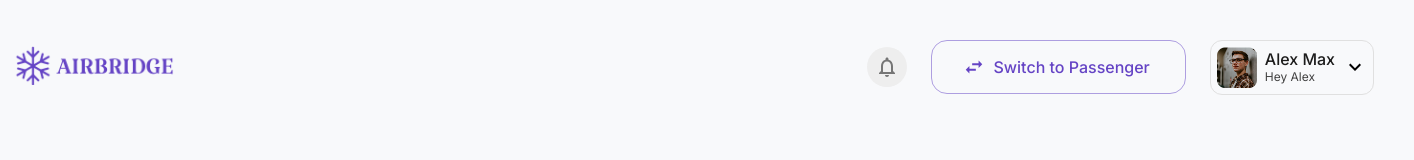
Screen Header › switch role
What coordinates should you click on to do the following:
click the button "Switch to Passenger"
I would click on:
 (1059, 67)
Its box is [932,40,1186,94].
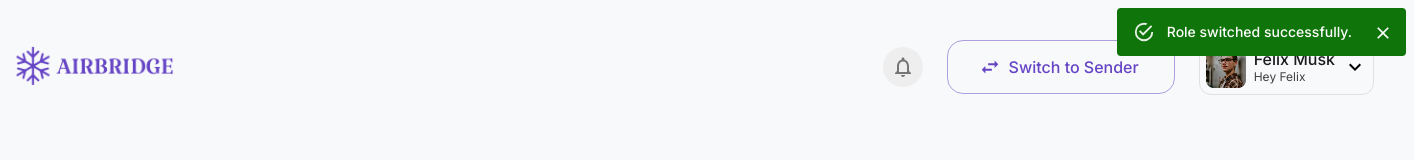
Result: the message "Role switched successfully." is shown at [1117,8,1406,56]
Result: the text "Role switched successfully." is shown at [1167,23,1352,40]
